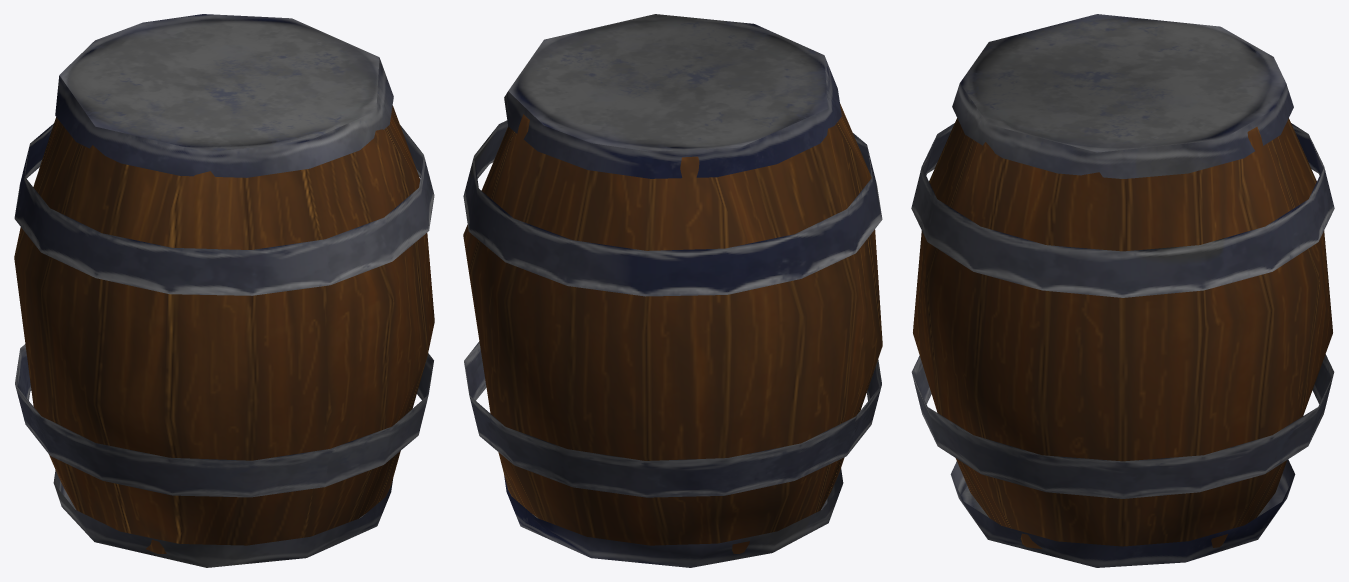
Rendered from 1_Barril_Simple_Original_Oscuro_LOD_1.fbx.
The picture shows the model from 3 angles, left to right: view 1: azimuth 30°, elevation 25°; view 2: azimuth 150°, elevation 25°; view 3: azimuth 270°, elevation 25°; orthographic projection.
Parts seen in each view (by area): view 1: 1_Barril_Simple_Original_Oscuro_LOD_1; view 2: 1_Barril_Simple_Original_Oscuro_LOD_1; view 3: 1_Barril_Simple_Original_Oscuro_LOD_1.
Boxes of the visible parts, box(x1,y1,x2,y2) form: 1_Barril_Simple_Original_Oscuro_LOD_1: box(14, 14, 434, 567); 1_Barril_Simple_Original_Oscuro_LOD_1: box(463, 14, 882, 567); 1_Barril_Simple_Original_Oscuro_LOD_1: box(911, 14, 1334, 567).
Bounding box in the file's own units: 98.3 × 106 × 98.3.
